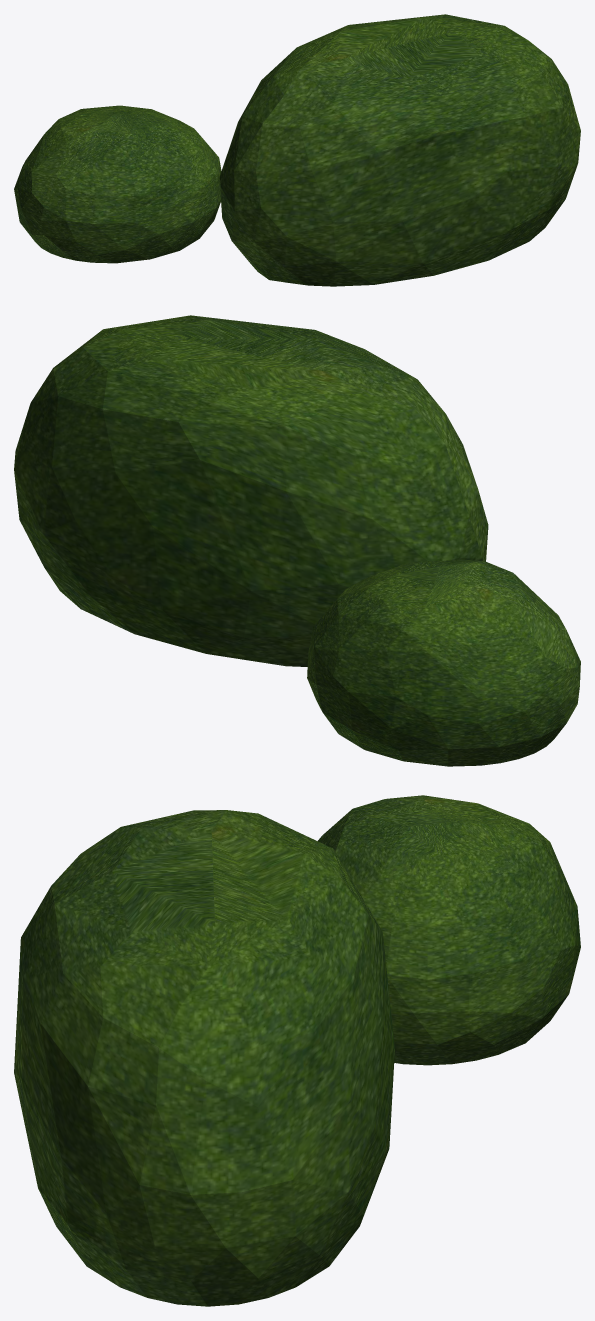
The model's file is PLANT-1.fbx.
3 views of the same model, one above another, from view 1: azimuth 30°, elevation 25°; view 2: azimuth 150°, elevation 25°; view 3: azimuth 270°, elevation 25° (orthographic). The views are drawn at different scales.
Parts seen in each view (by area): view 1: Buxus-Big-1, Buxus-Small-1; view 2: Buxus-Big-1, Buxus-Small-1; view 3: Buxus-Big-1, Buxus-Small-1.
Part boxes in pixels (x1,y1,x2,y2): Buxus-Big-1: [219, 14, 580, 286]; Buxus-Small-1: [14, 105, 221, 263]; Buxus-Big-1: [14, 315, 488, 666]; Buxus-Small-1: [307, 560, 580, 766]; Buxus-Big-1: [14, 810, 394, 1306]; Buxus-Small-1: [318, 795, 580, 1065].
Size of the model in its own units: 482 by 185 by 301.
1 material, 1 textured.
